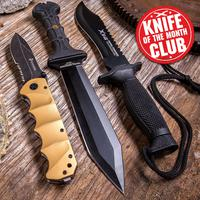knife: (29, 2, 129, 200), (71, 1, 164, 132), (4, 27, 62, 184)
